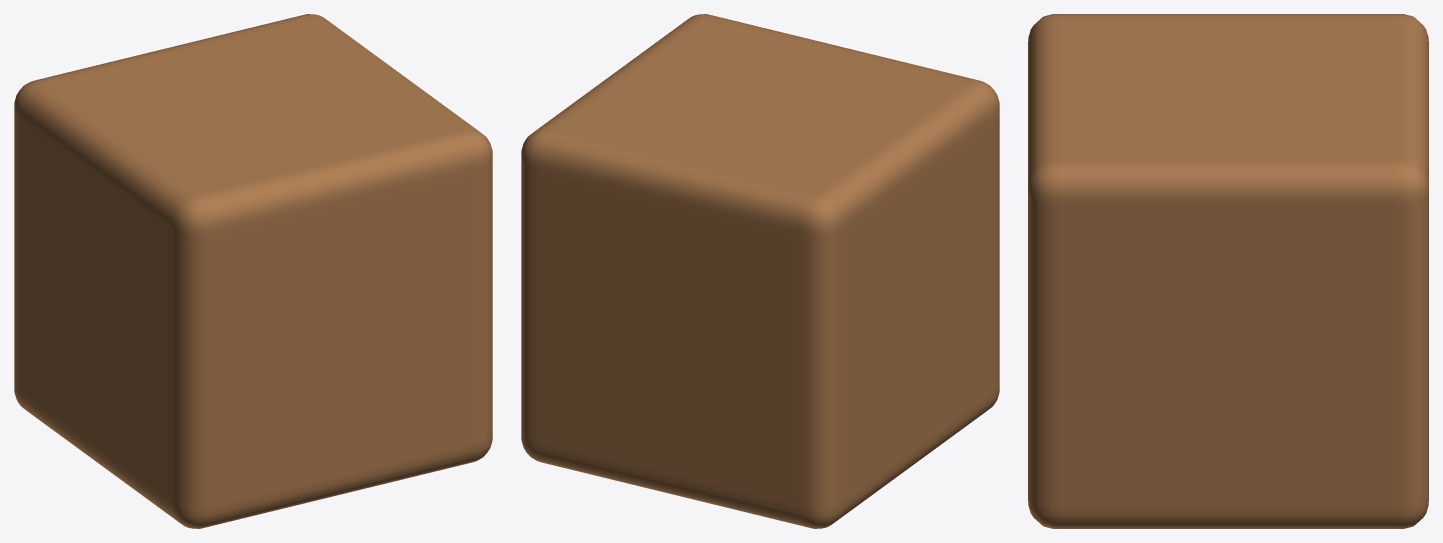
Rendered from block.glb.
The picture shows the model from 3 angles, left to right: view 1: azimuth 30°, elevation 25°; view 2: azimuth 150°, elevation 25°; view 3: azimuth 270°, elevation 25°; orthographic projection. The views are drawn at different scales.
Visible parts, largest first — view 1: Block; view 2: Block; view 3: Block.
Part boxes in pixels (x1,y1,x2,y2): Block: (14,14,492,528); Block: (521,14,999,528); Block: (1028,14,1428,528).
Bounding box in the file's own units: 0.06 × 0.06 × 0.06.
